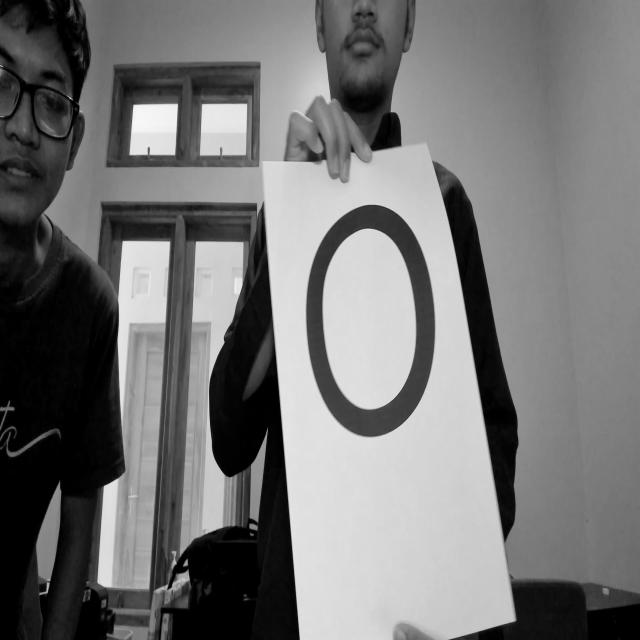o: (292, 175, 451, 462)
